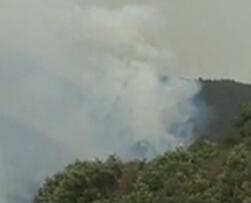yanwu: (0, 2, 201, 162)
